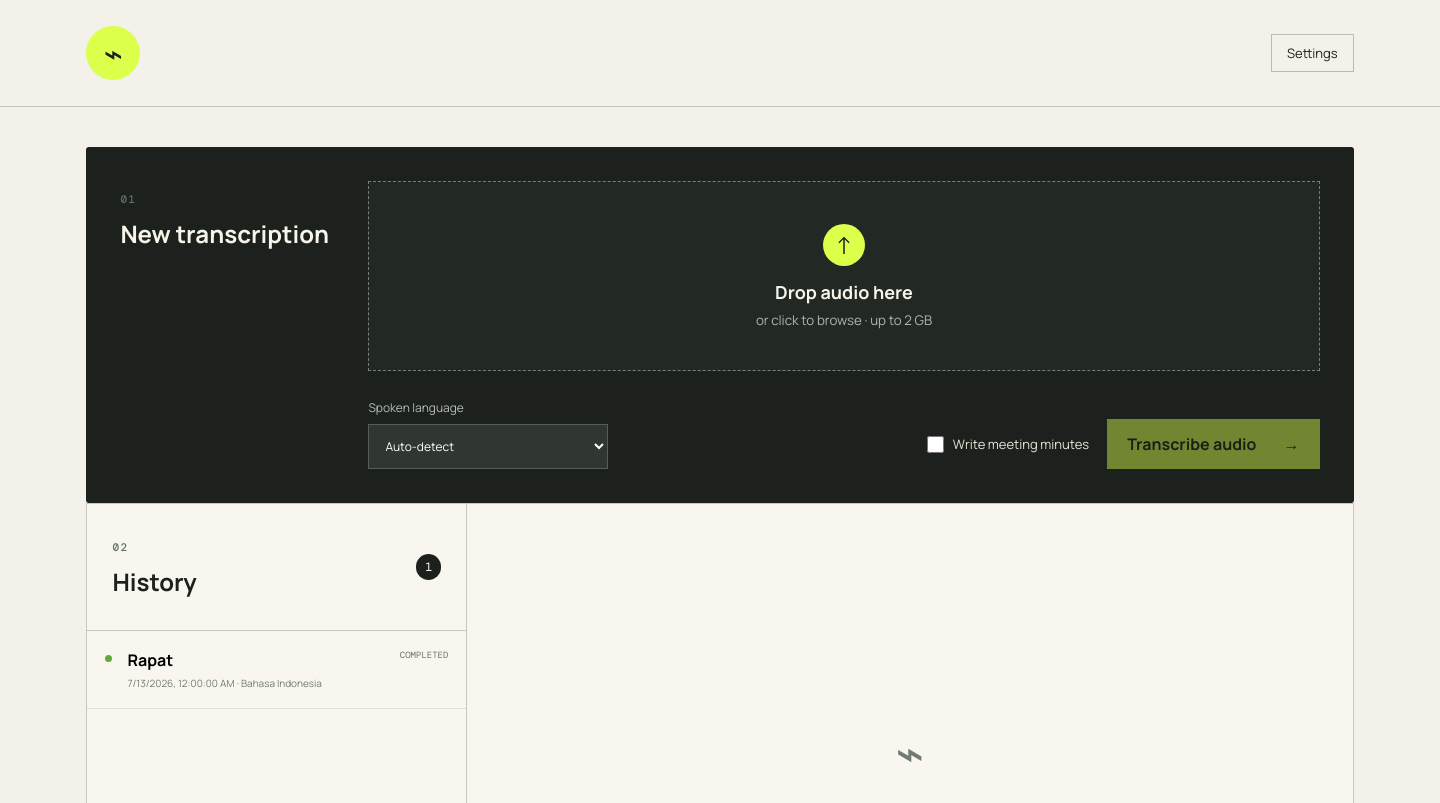
Scenario: surfaces a failed summary without hiding the transcript
Click the button "Rapat 7/13/2026, 12:00:00 AM · Bahasa Indonesia completed": (150, 660) left=87, top=631, right=466, bottom=709
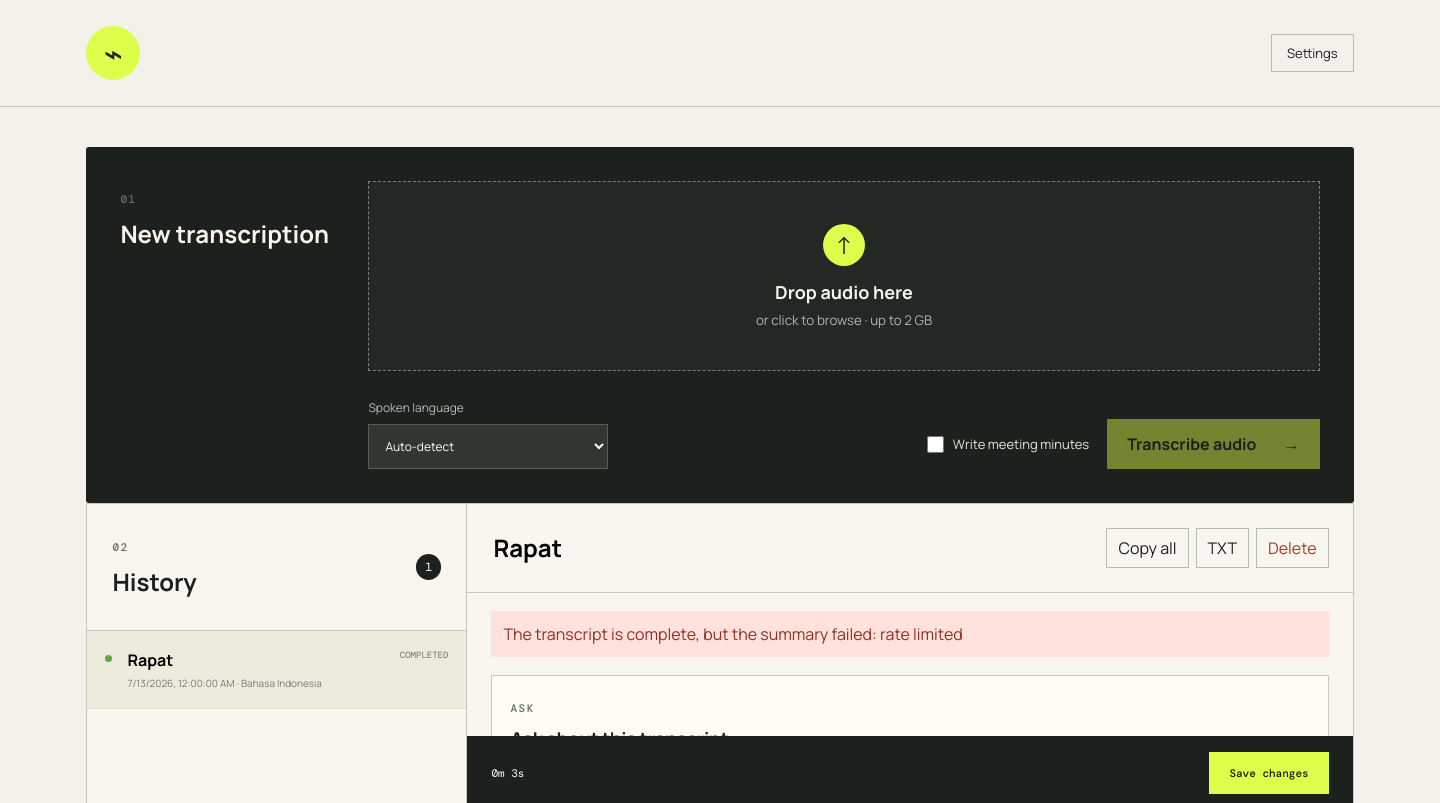
Expected: the text "the summary failed: rate limited" is shown, left=503, top=623, right=963, bottom=645
